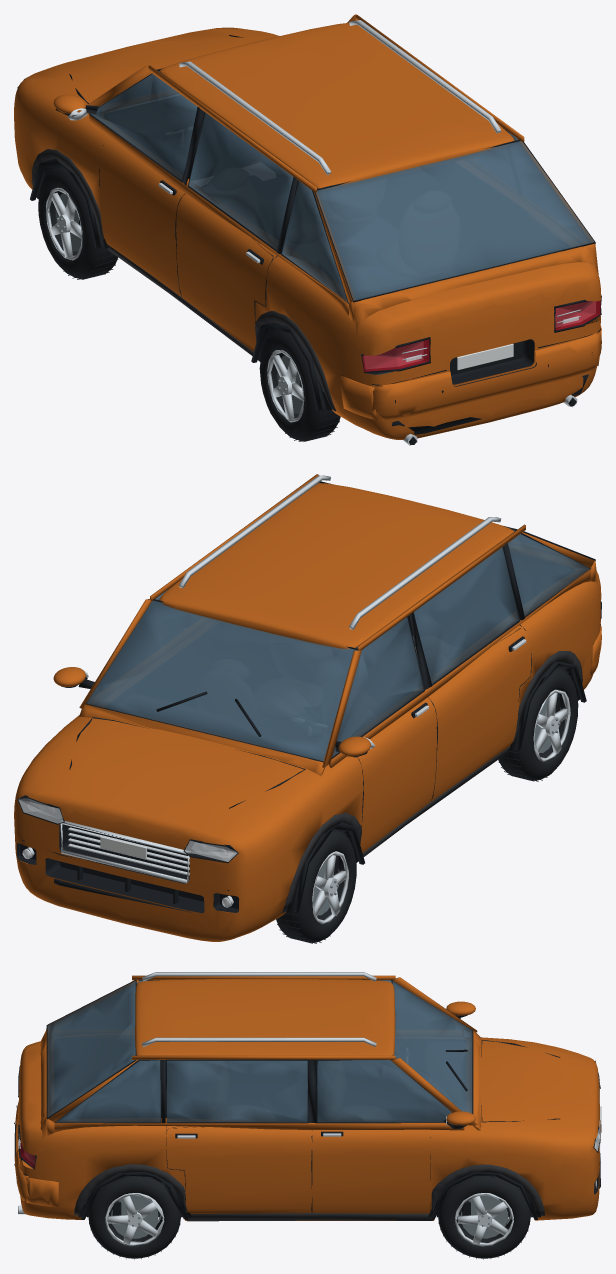
File: car_suv.glb
The picture shows the model from 3 angles, top to bottom: view 1: azimuth 30°, elevation 25°; view 2: azimuth 150°, elevation 25°; view 3: azimuth 270°, elevation 25°; orthographic projection. The views are drawn at different scales.
Visible parts, largest first — view 1: Original compact_suv fourteen-section body shell, Aerodynamic mirror painted cap, Extended rear quarter glazing, Aerodynamic mirror lower housing, Cast swept alloy spoke, Continuous circumferential tread rib, Lower body protective cladding, Flush corner wrapping ruby lamp lens, Front license plate, Deep wheel barrel inner lip; view 2: Original compact_suv fourteen-section body shell, Extended rear quarter glazing, Aerodynamic mirror painted cap, Aerodynamic mirror lower housing, Cast swept alloy spoke, Continuous circumferential tread rib, Lower body protective cladding, Clear reversing lens insert, Deep wheel barrel inner lip; view 3: Original compact_suv fourteen-section body shell, Extended rear quarter glazing, Aerodynamic mirror painted cap, Continuous circumferential tread rib, Aerodynamic mirror lower housing, Cast swept alloy spoke, Lower body protective cladding, Deep wheel barrel inner lip.
Boxes of the visible parts, x1,y1,x2,y2 form: Original compact_suv fourteen-section body shell: (14, 27, 601, 439); Aerodynamic mirror painted cap: (53, 14, 601, 420); Extended rear quarter glazing: (90, 71, 594, 301); Aerodynamic mirror lower housing: (17, 35, 601, 444); Cast swept alloy spoke: (46, 20, 595, 445); Continuous circumferential tread rib: (38, 167, 340, 441); Lower body protective cladding: (32, 149, 336, 411); Flush corner wrapping ruby lamp lens: (362, 300, 600, 372); Front license plate: (457, 343, 513, 370); Deep wheel barrel inner lip: (55, 193, 303, 413); Original compact_suv fourteen-section body shell: (14, 571, 601, 941); Extended rear quarter glazing: (86, 482, 589, 761); Aerodynamic mirror painted cap: (53, 474, 601, 776); Aerodynamic mirror lower housing: (17, 481, 601, 912); Cast swept alloy spoke: (24, 475, 570, 924); Continuous circumferential tread rib: (276, 669, 578, 943); Lower body protective cladding: (281, 651, 582, 913); Clear reversing lens insert: (18, 798, 237, 907); Deep wheel barrel inner lip: (312, 698, 560, 915); Original compact_suv fourteen-section body shell: (18, 1037, 600, 1220); Extended rear quarter glazing: (47, 980, 472, 1122); Aerodynamic mirror painted cap: (14, 975, 481, 1207); Continuous circumferential tread rib: (88, 1176, 530, 1259); Aerodynamic mirror lower housing: (14, 979, 600, 1219); Cast swept alloy spoke: (18, 972, 600, 1246); Lower body protective cladding: (74, 1164, 544, 1221); Deep wheel barrel inner lip: (108, 1195, 511, 1238).
Bounding box in the file's own units: 2.29 × 1.82 × 4.75.
